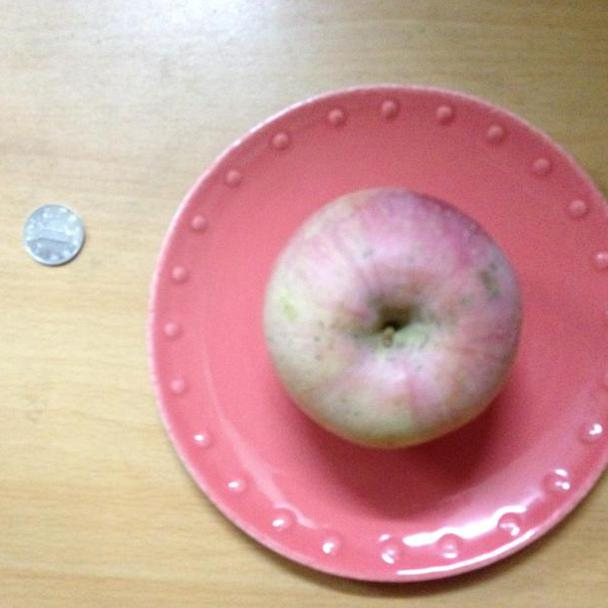apple: (260, 186, 530, 452)
